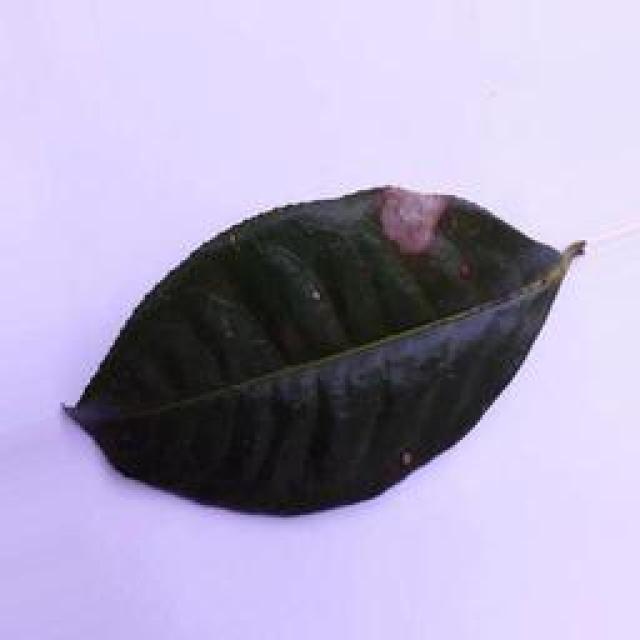Gray Blight: (59, 182, 585, 524)
